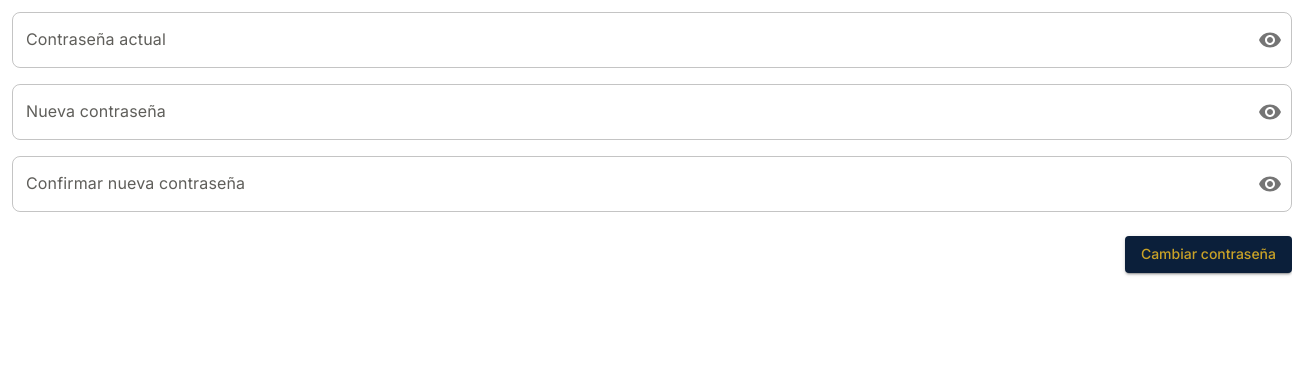
Test: ChangePasswordForm › successful submission › should show success message on successful change
Type "OldPass123" into the password field labelled "Contraseña actual".
click(627, 40); type("OldPass123")  # box top-left (12, 12), bottom-right (1242, 68)
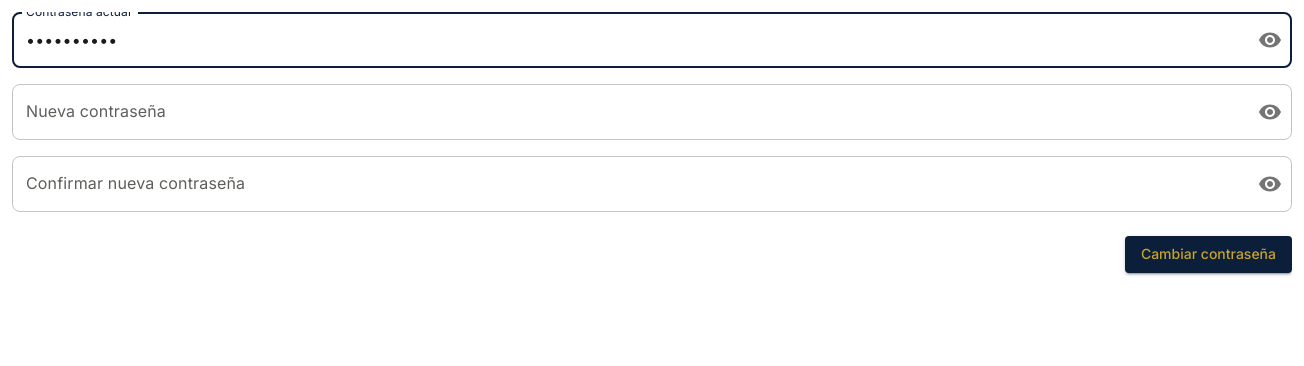
Type "NewPass456" into the password field labelled "Nueva contraseña".
click(627, 112); type("NewPass456")  # box top-left (12, 84), bottom-right (1242, 140)
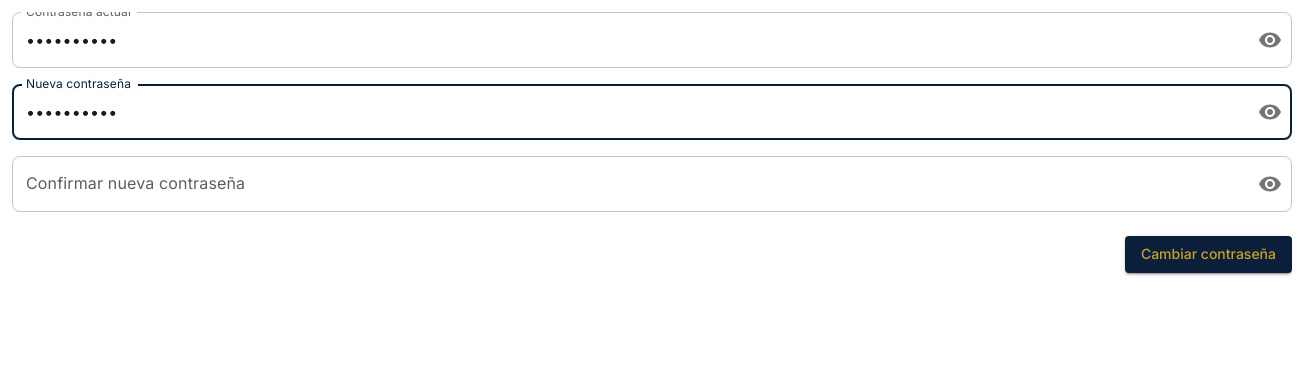
Type "NewPass456" into the password field labelled "Confirmar nueva contraseña".
click(627, 184); type("NewPass456")  # box top-left (12, 156), bottom-right (1242, 212)
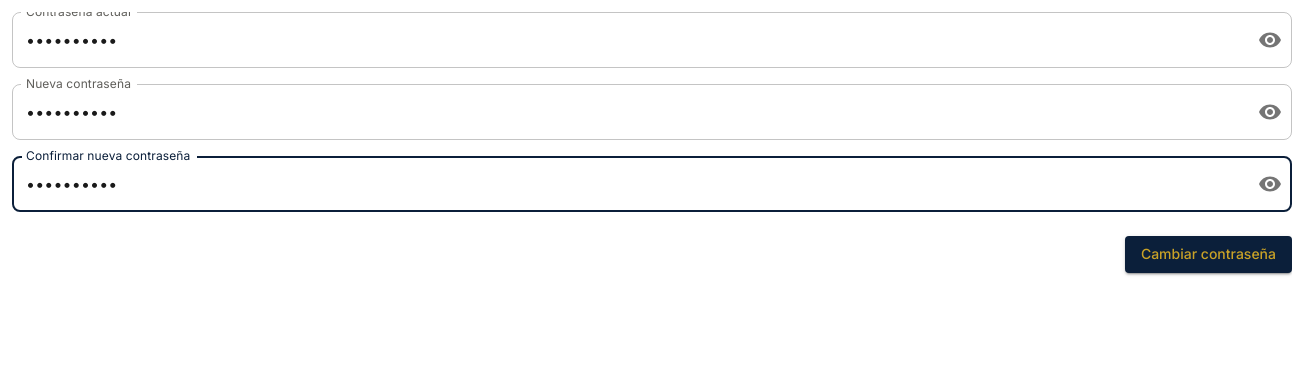
Click the button "Cambiar contraseña".
click(1208, 254)  # box top-left (1125, 236), bottom-right (1292, 272)
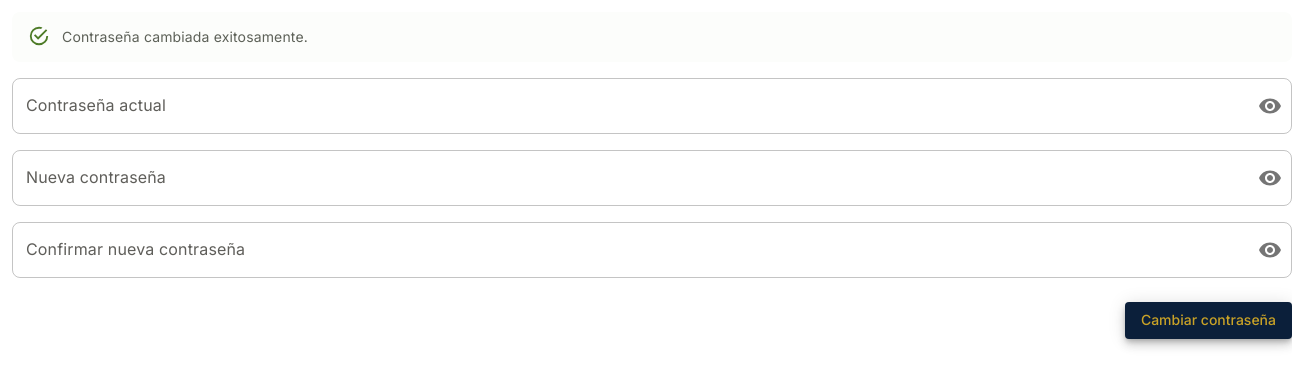
expect the text "Contraseña cambiada exitosamente." is shown: met, box top-left (62, 28), bottom-right (308, 45)
